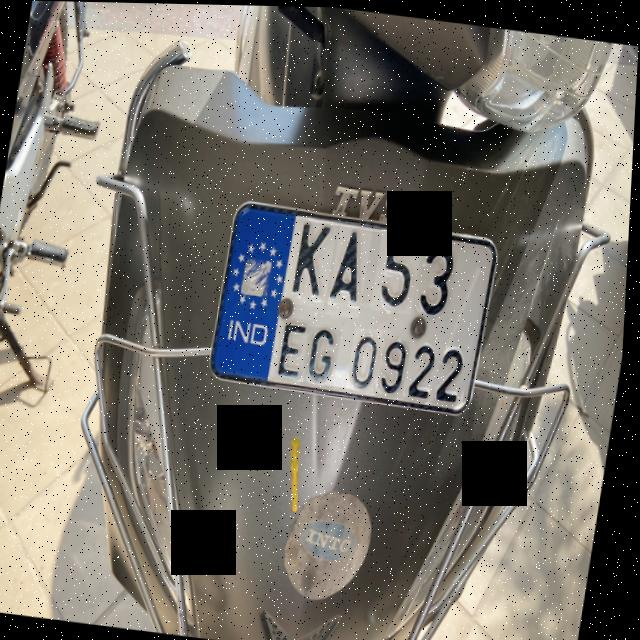0: (349, 325, 387, 394)
3: (416, 239, 462, 320)
5: (373, 227, 426, 314)
9: (380, 336, 414, 397)
A: (329, 222, 375, 316)
E: (276, 315, 319, 381)
G: (303, 324, 345, 388)
K: (285, 213, 340, 306)
